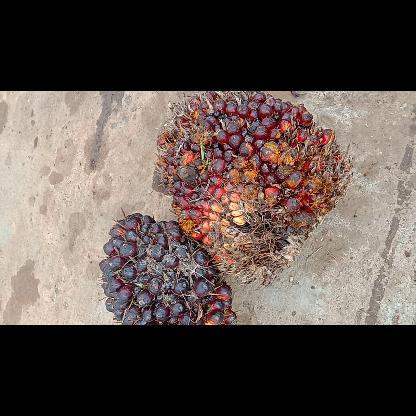TBS masak: (155, 91, 351, 285)
TBS mentah: (98, 207, 236, 324)
